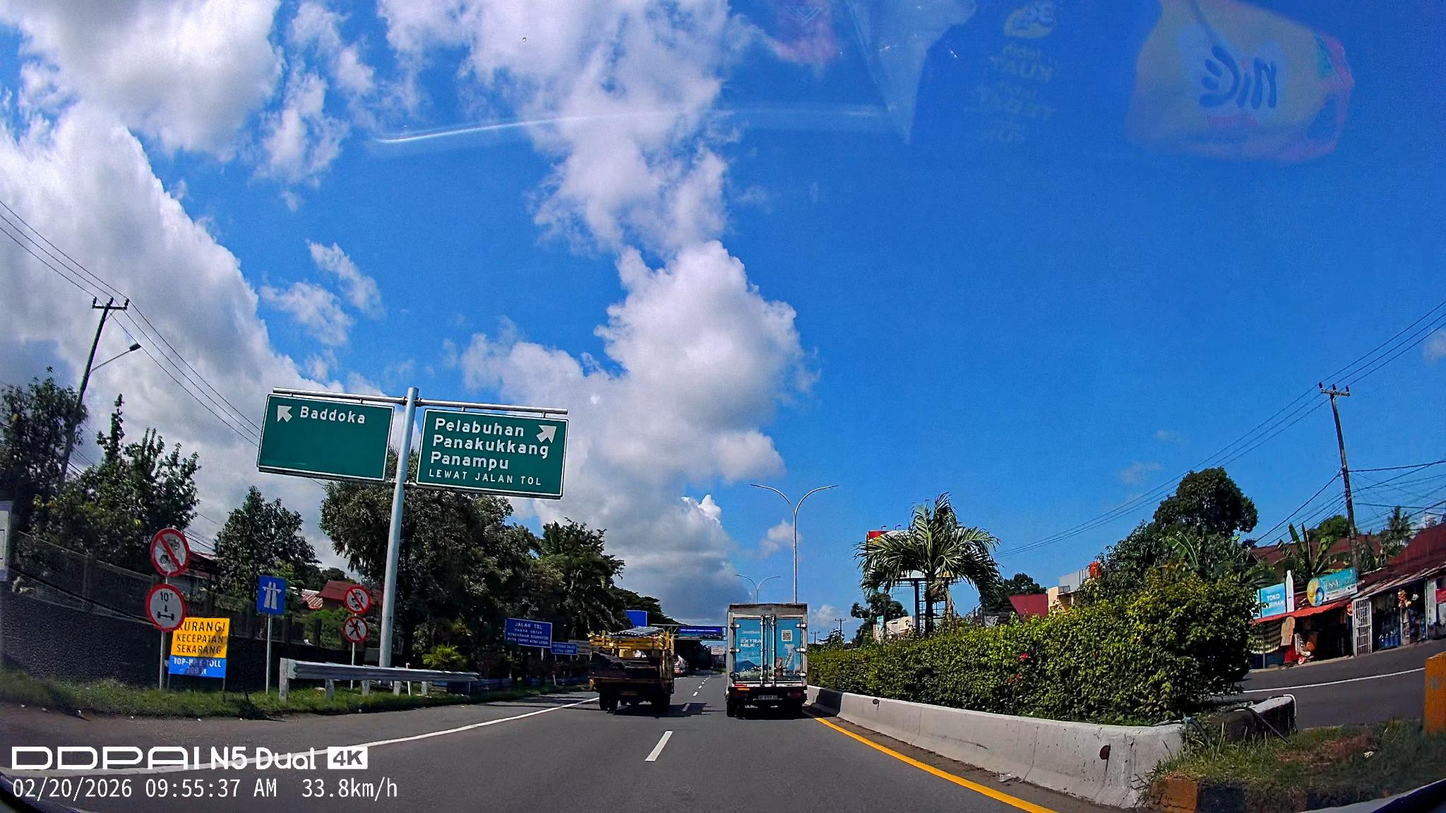rambu_teks: (415, 407, 569, 500), (256, 393, 397, 483)
